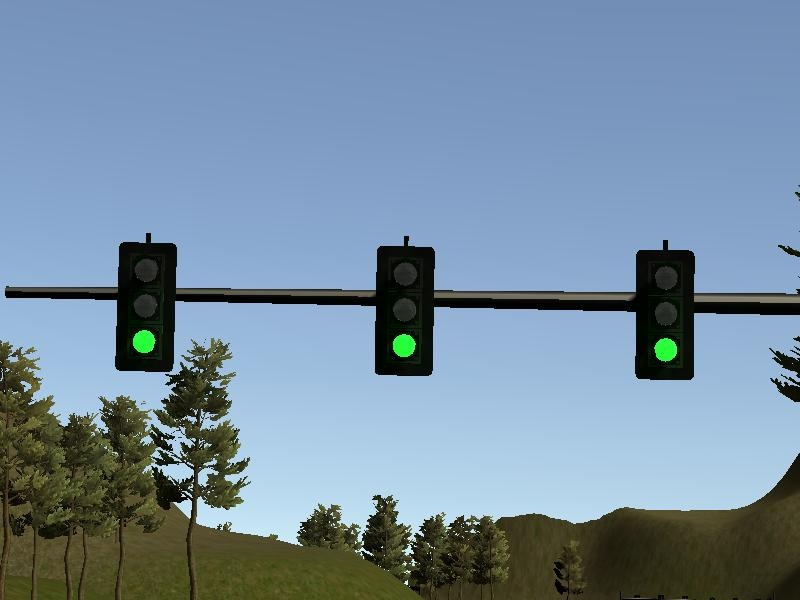green: (375, 244, 435, 376), (635, 250, 694, 380), (118, 242, 175, 375)
